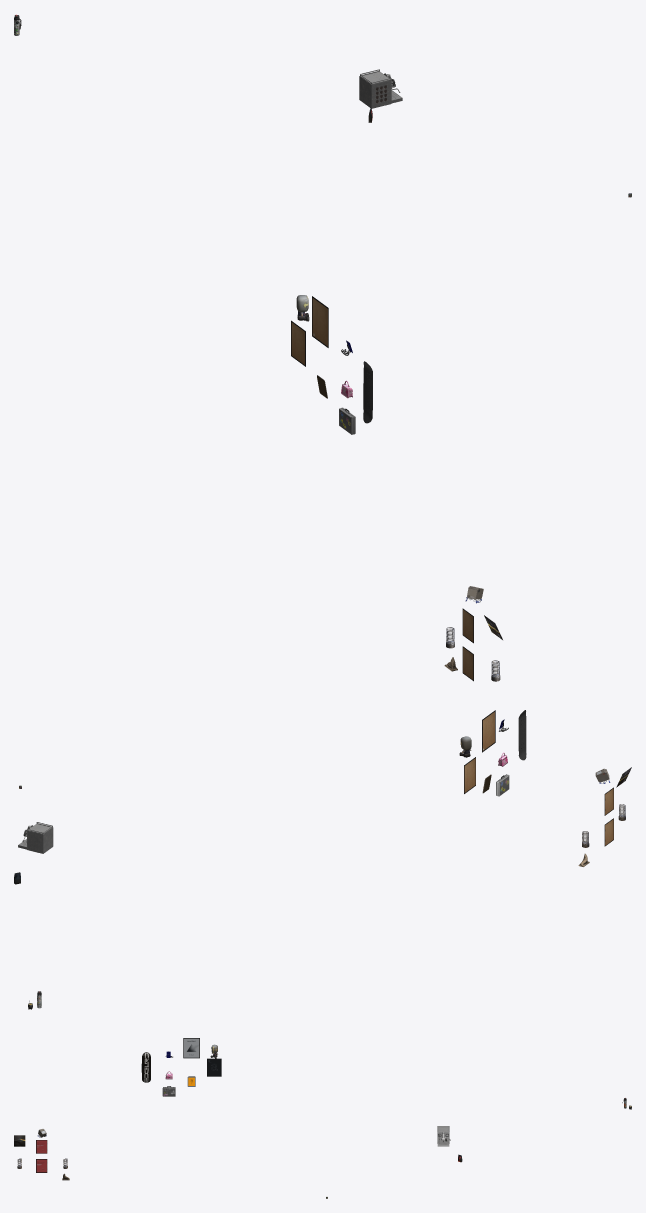
File: officeItems-9a8576ca.glb
3 renders of one model, top to bottom at view 1: azimuth 30°, elevation 25°; view 2: azimuth 150°, elevation 25°; view 3: azimuth 270°, elevation 25°, orthographic. The views are drawn at different scales.
Parts seen in each view (by area): view 1: SM_07_02; view 2: SM_07_02, SM_VercelShip2324; view 3: SM_VercelShip2324, SM_VercelShipGlass, SM_Geist, SM_EDGLRD, SM_07_02.
Boxes of the visible parts, <box> form: SM_07_02: <box>359,69,402,108</box>; SM_07_02: <box>18,822,53,853</box>; SM_VercelShip2324: <box>482,710,495,752</box>; SM_VercelShip2324: <box>183,1038,199,1058</box>; SM_VercelShipGlass: <box>184,1039,198,1057</box>; SM_Geist: <box>207,1058,221,1076</box>; SM_EDGLRD: <box>141,1052,150,1082</box>; SM_07_02: <box>437,1126,450,1146</box>.
Bounding box in the file's own units: 8.84 × 5.22 × 20.9.
Materials: 27 (22 with a texture image).
